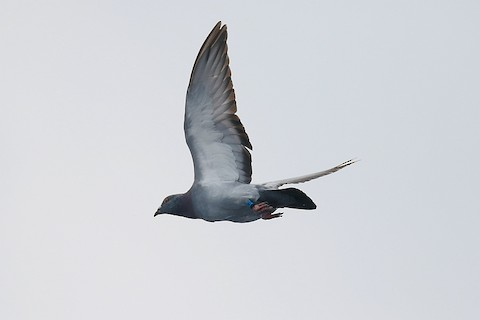pigeon: (149, 16, 358, 225)
